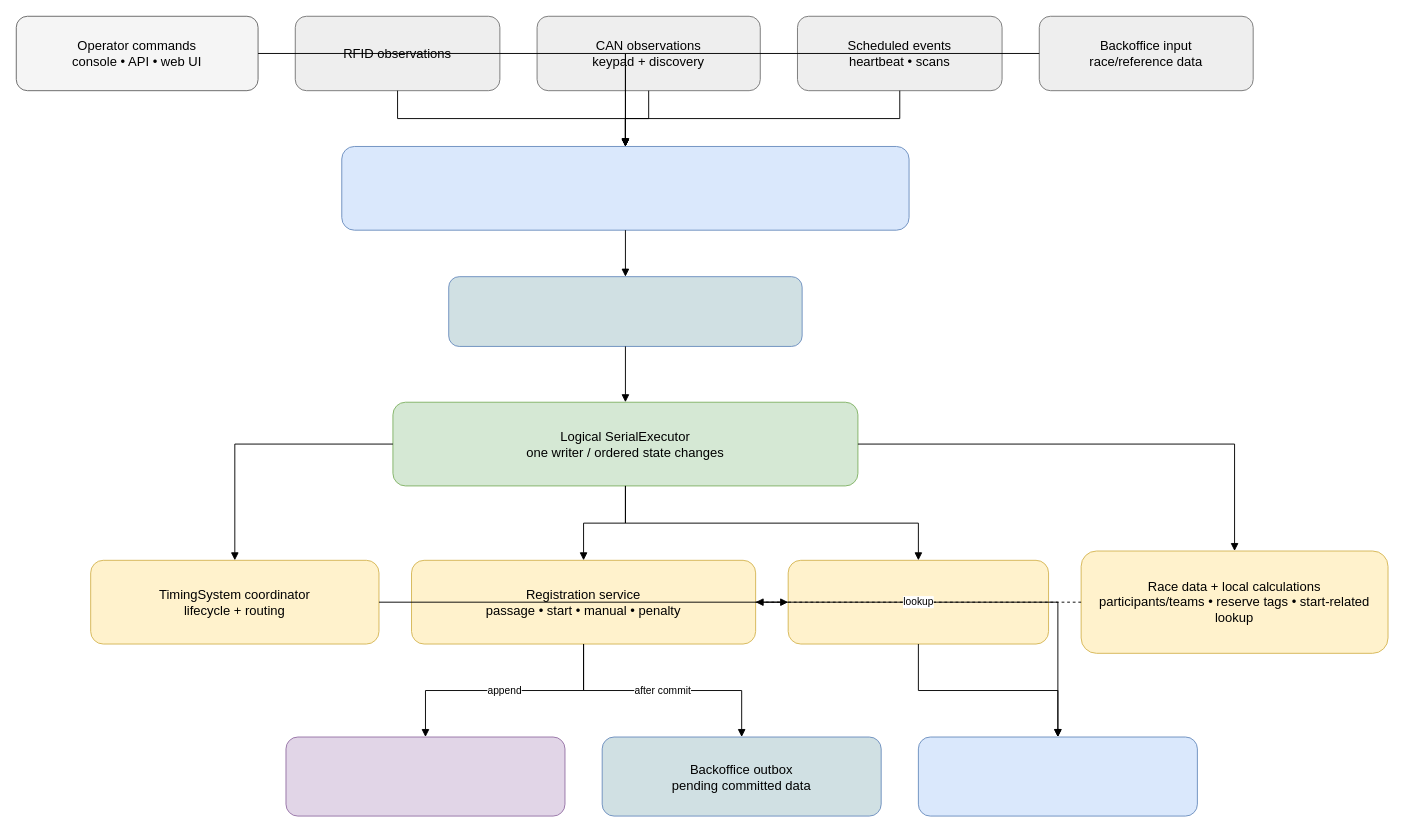
Image size: 1404x832. Some labels were removed from this diagram. Here are the shapes that lost their labels. From the top down, the centre of each, then its label:
[625,188]: Immutable TimingSystemMessage source timestamp + system id
[625,311]: Per-TimingSystem ingress queue
[918,601]: Status service immutable snapshots
[425,776]: RegistrationStore durable local records
[1057,776]: UI / WebSocket events status + registrations
